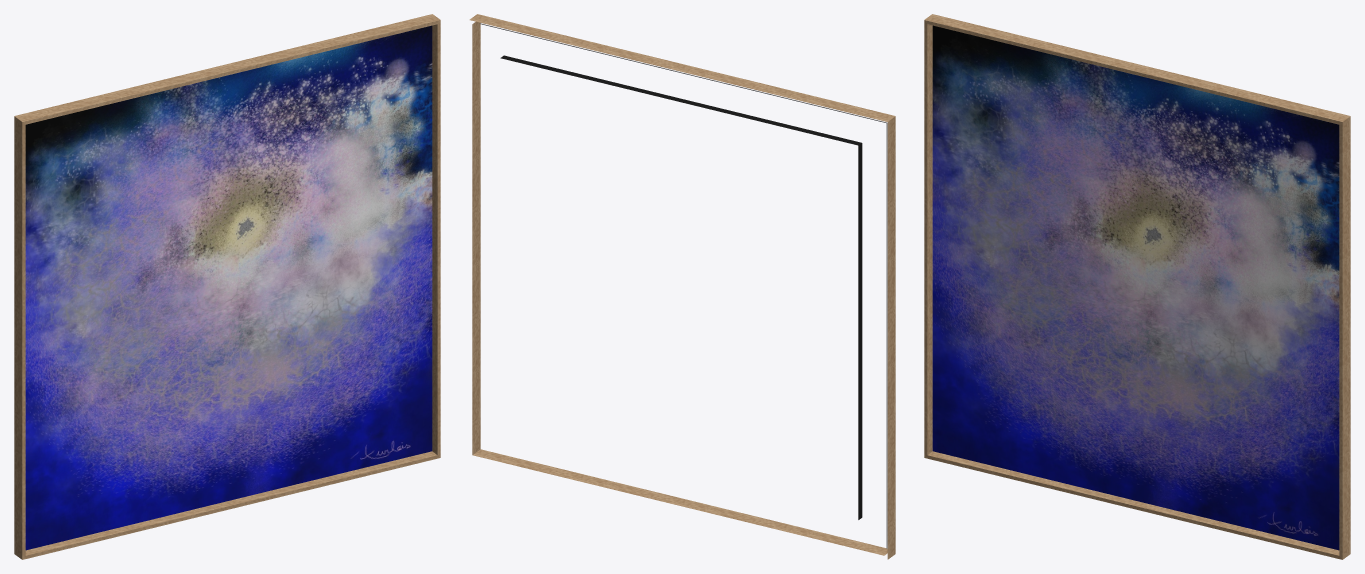
Rendered from va043_grand_caisse-chene.glb.
3 renders of one model, left to right at view 1: azimuth 30°, elevation 25°; view 2: azimuth 150°, elevation 25°; view 3: azimuth 330°, elevation 25°, orthographic.
Visible parts, largest first — view 1: va043_grand_caisse-chene; view 2: va043_grand_caisse-chene; view 3: va043_grand_caisse-chene.
Boxes of the visible parts, x1,y1,x2,y2 form: va043_grand_caisse-chene: [14, 14, 440, 559]; va043_grand_caisse-chene: [469, 14, 895, 559]; va043_grand_caisse-chene: [924, 14, 1350, 559].
Size of the model in its own units: 1.03 by 1.03 by 0.035.
Materials: 4 (2 with a texture image).
